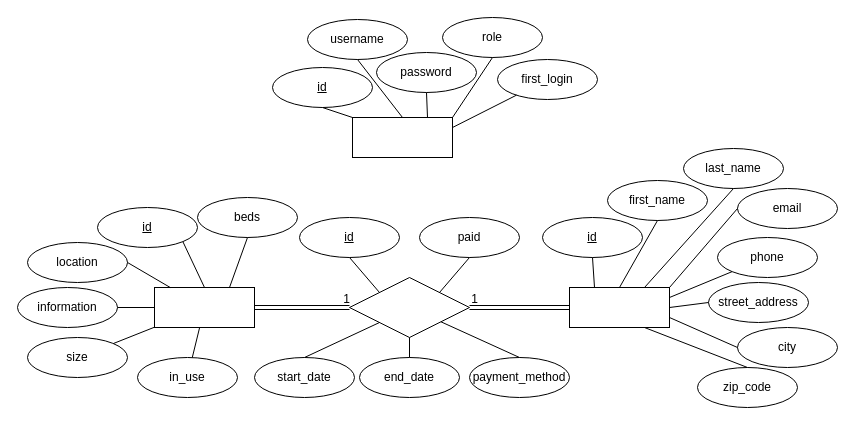
Image size: 855x425. Some labels were removed from this diagram. Each missing label, with the centre of its shape:
"booking" goes at [409,307].
"customer" goes at [619,307].
"room" goes at [204,307].
"user" goes at [402,137].
